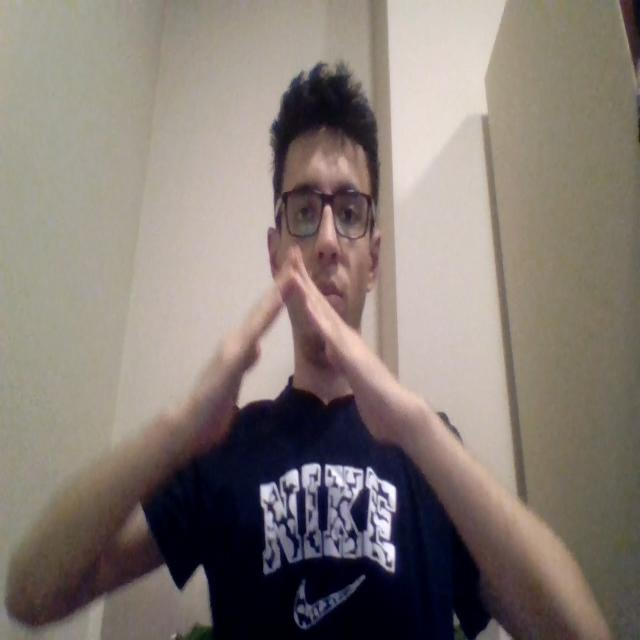house: (175, 248, 402, 440)
